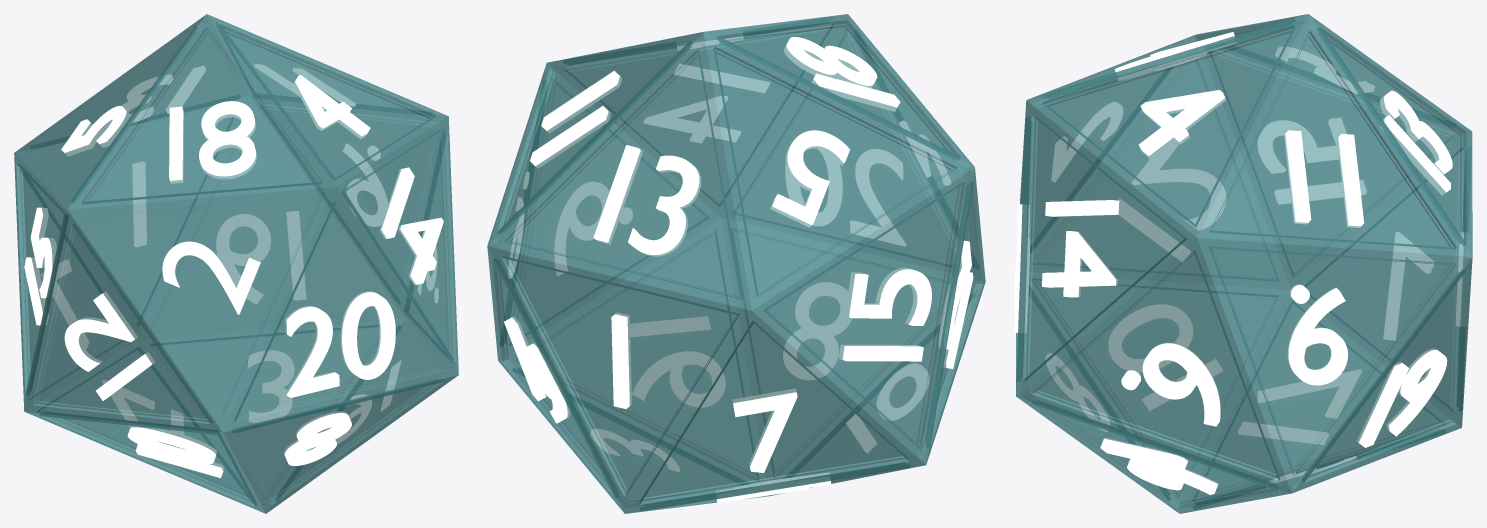
Rendered from 20dice.glb.
The picture shows the model from 3 angles, left to right: view 1: azimuth 30°, elevation 25°; view 2: azimuth 150°, elevation 25°; view 3: azimuth 270°, elevation 25°; orthographic projection. The views are drawn at different scales.
Visible parts, largest first — view 1: 棱角球, 20; view 2: 棱角球, 20; view 3: 棱角球, 20.
Part boxes in pixels (x1,y1,x2,y2): 棱角球: (14, 14, 458, 513); 20: (24, 57, 447, 478); 棱角球: (487, 14, 985, 513); 20: (498, 28, 973, 502); 棱角球: (1016, 14, 1472, 513); 20: (1014, 32, 1470, 494).
Size of the model in its own units: 1.7 by 1.95 by 1.62.
